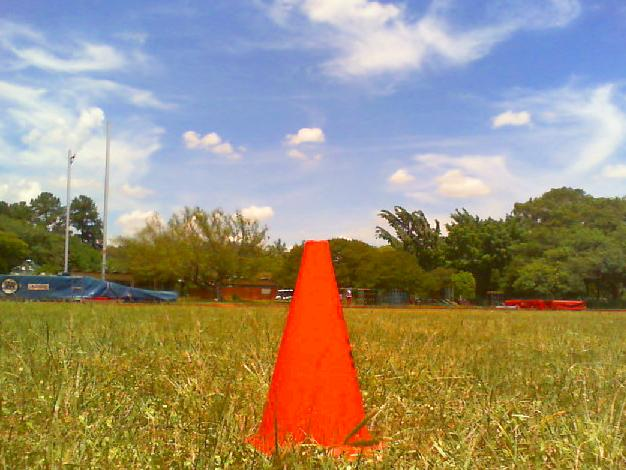0 cone: (245, 240, 387, 460)
